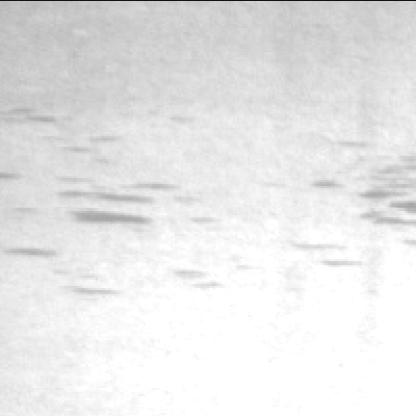inclusion: (306, 146, 414, 245), (48, 164, 179, 244), (158, 252, 228, 300)
